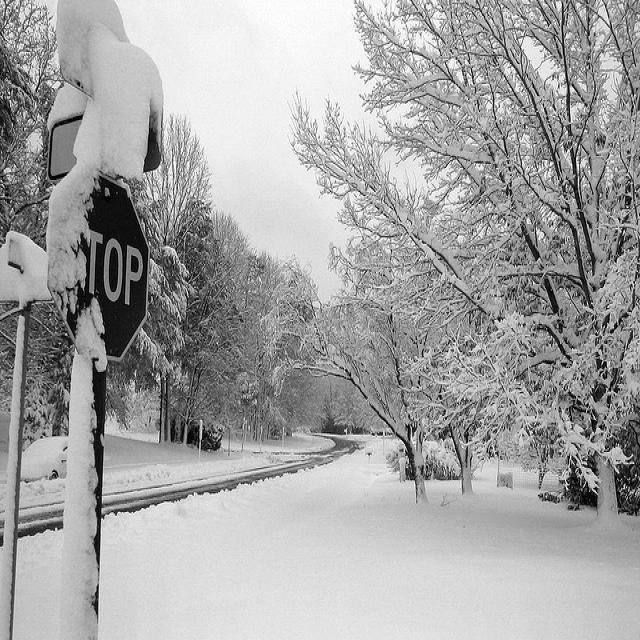pole: (46, 340, 116, 639), (1, 302, 33, 638)
